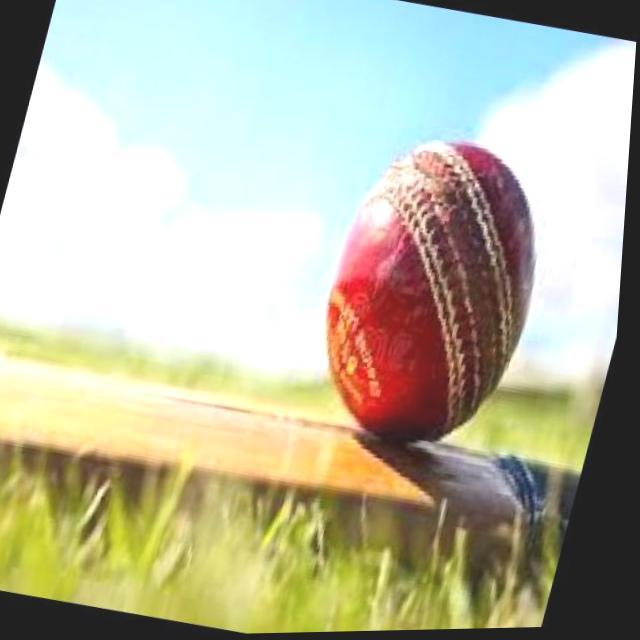-: (297, 127, 588, 470)
